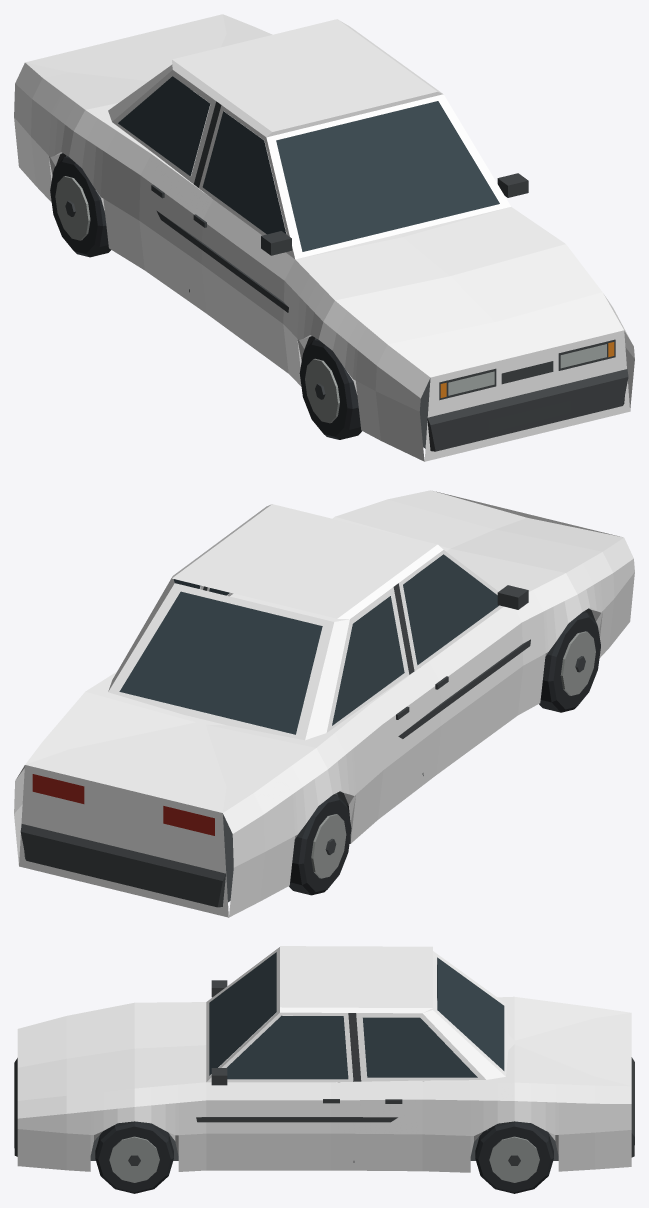
The model's file is hoshino_tenma_gt_ii.glb.
The picture shows the model from 3 angles, top to bottom: view 1: azimuth 30°, elevation 25°; view 2: azimuth 150°, elevation 25°; view 3: azimuth 270°, elevation 25°; orthographic projection. The views are drawn at different scales.
Visible parts, largest first — view 1: hoshino_tenma_gt_ii; view 2: hoshino_tenma_gt_ii; view 3: hoshino_tenma_gt_ii.
Boxes of the visible parts, x1=… form: hoshino_tenma_gt_ii: x1=14, y1=14, x2=634, y2=461; hoshino_tenma_gt_ii: x1=14, y1=490, x2=634, y2=917; hoshino_tenma_gt_ii: x1=14, y1=946, x2=634, y2=1193.
Size of the model in its own units: 1.78 by 1.45 by 4.77.
Materials: 8 (1 with a texture image).
